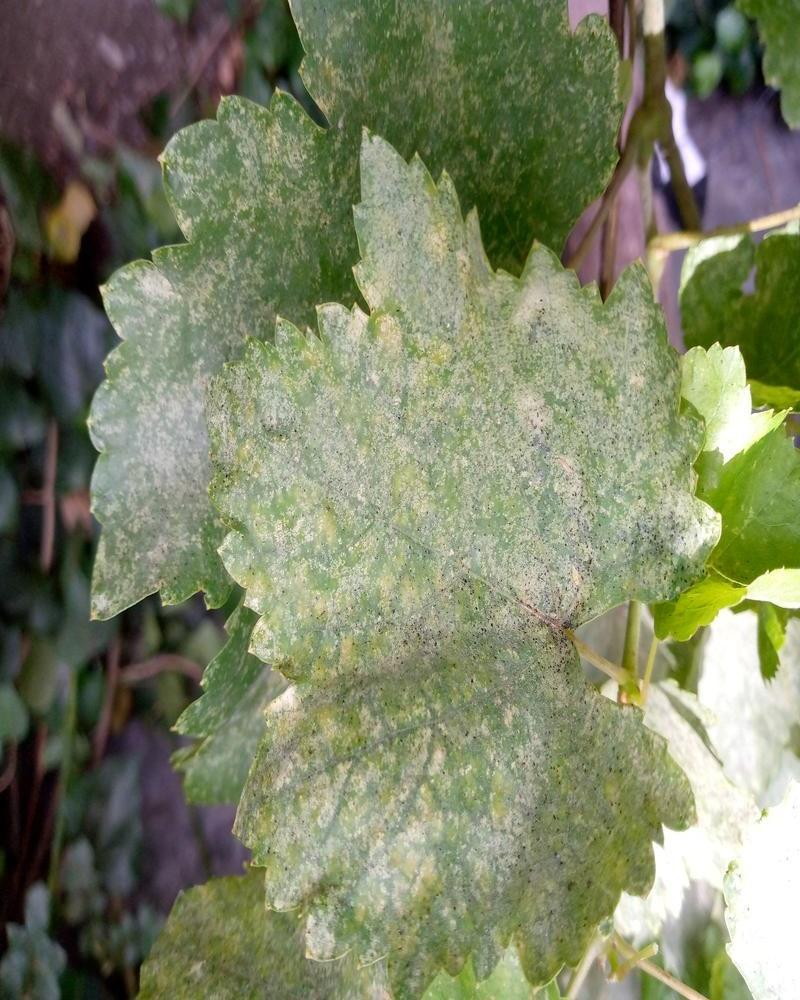Powdery-Mildew: (258, 699, 547, 918), (271, 396, 497, 662), (519, 445, 731, 631), (351, 141, 497, 374), (514, 263, 676, 460), (237, 340, 398, 538), (399, 706, 462, 769)
